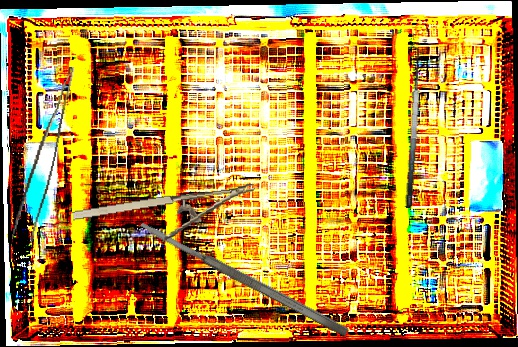Needle Holder: (71, 183, 260, 251)
Spatula Surgical: (138, 218, 350, 339), (391, 43, 428, 209)
Tissue Forceps: (11, 62, 75, 244)
